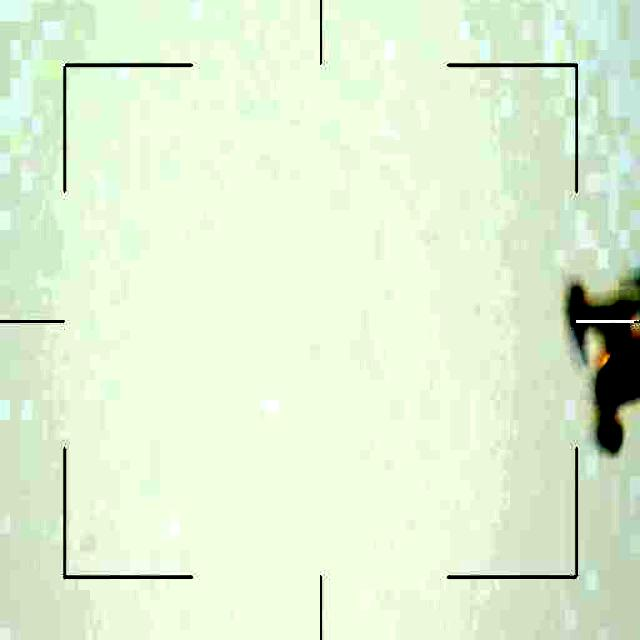bird: (560, 261, 640, 448)
